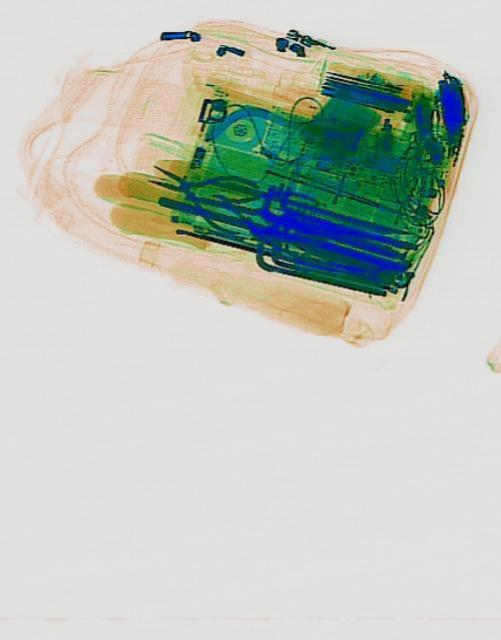Pliers: (139, 140, 256, 240), (204, 175, 269, 232)
